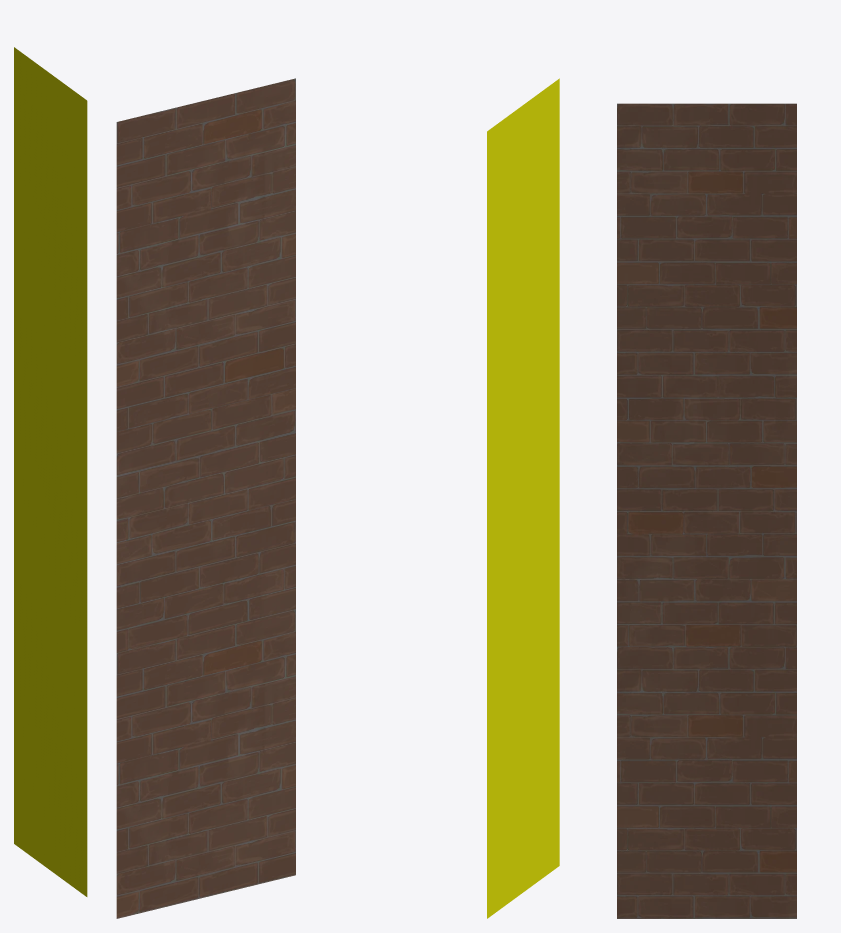
The model's file is brick-90angle-l.glb.
3 views of the same model, side by side, from view 1: azimuth 30°, elevation 25°; view 2: azimuth 150°, elevation 25°; view 3: azimuth 270°, elevation 25° (orthographic). The views are drawn at different scales.
Parts seen in each view (by area): view 1: Brick_90Angle_L; view 2: Brick_90Angle_L; view 3: Brick_90Angle_L.
Part boxes in pixels (x1,y1,x2,y2): Brick_90Angle_L: (14, 47, 295, 918); Brick_90Angle_L: (487, 78, 559, 918); Brick_90Angle_L: (617, 103, 796, 918).
Bounding box in the file's own units: 0.7062 × 3 × 0.7.
Materials: 2 (1 with a texture image).
